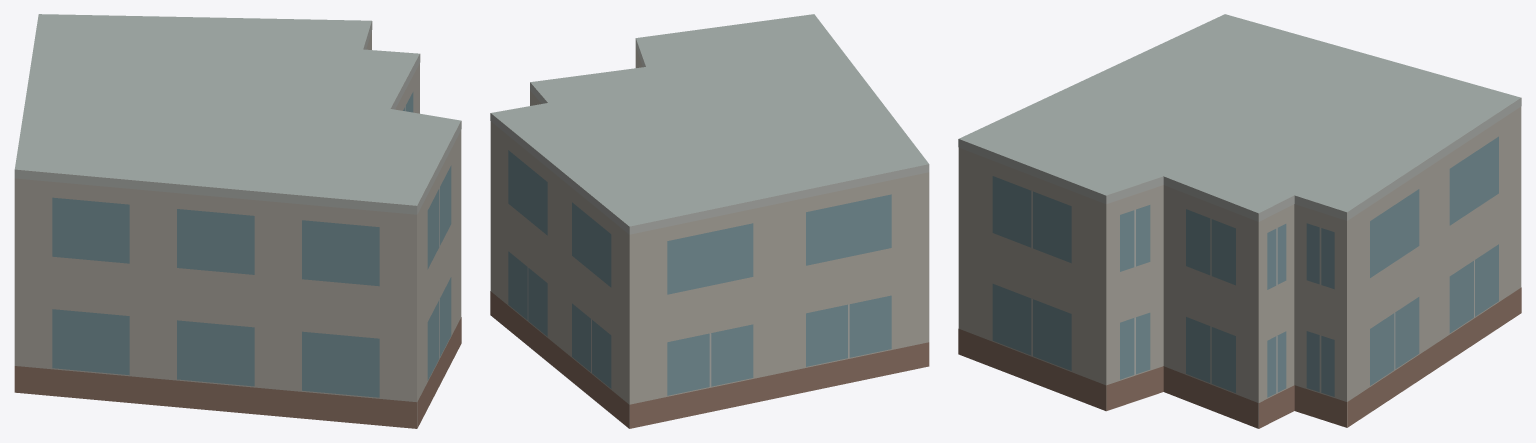
The model's file is survey-upis-32508553.glb.
3 views of the same model, side by side, from view 1: azimuth 30°, elevation 25°; view 2: azimuth 150°, elevation 25°; view 3: azimuth 270°, elevation 25° (orthographic). The views are drawn at different scales.
Visible parts, largest first — view 1: survey-upis-32508553.tmp; view 2: survey-upis-32508553.tmp; view 3: survey-upis-32508553.tmp.
Part boxes in pixels (left/top/right/bottom): survey-upis-32508553.tmp: left=14, top=14, right=461, bottom=428; survey-upis-32508553.tmp: left=490, top=14, right=929, bottom=428; survey-upis-32508553.tmp: left=958, top=14, right=1521, bottom=428.
Size of the model in its own units: 12.11 by 6.1 by 14.45.
